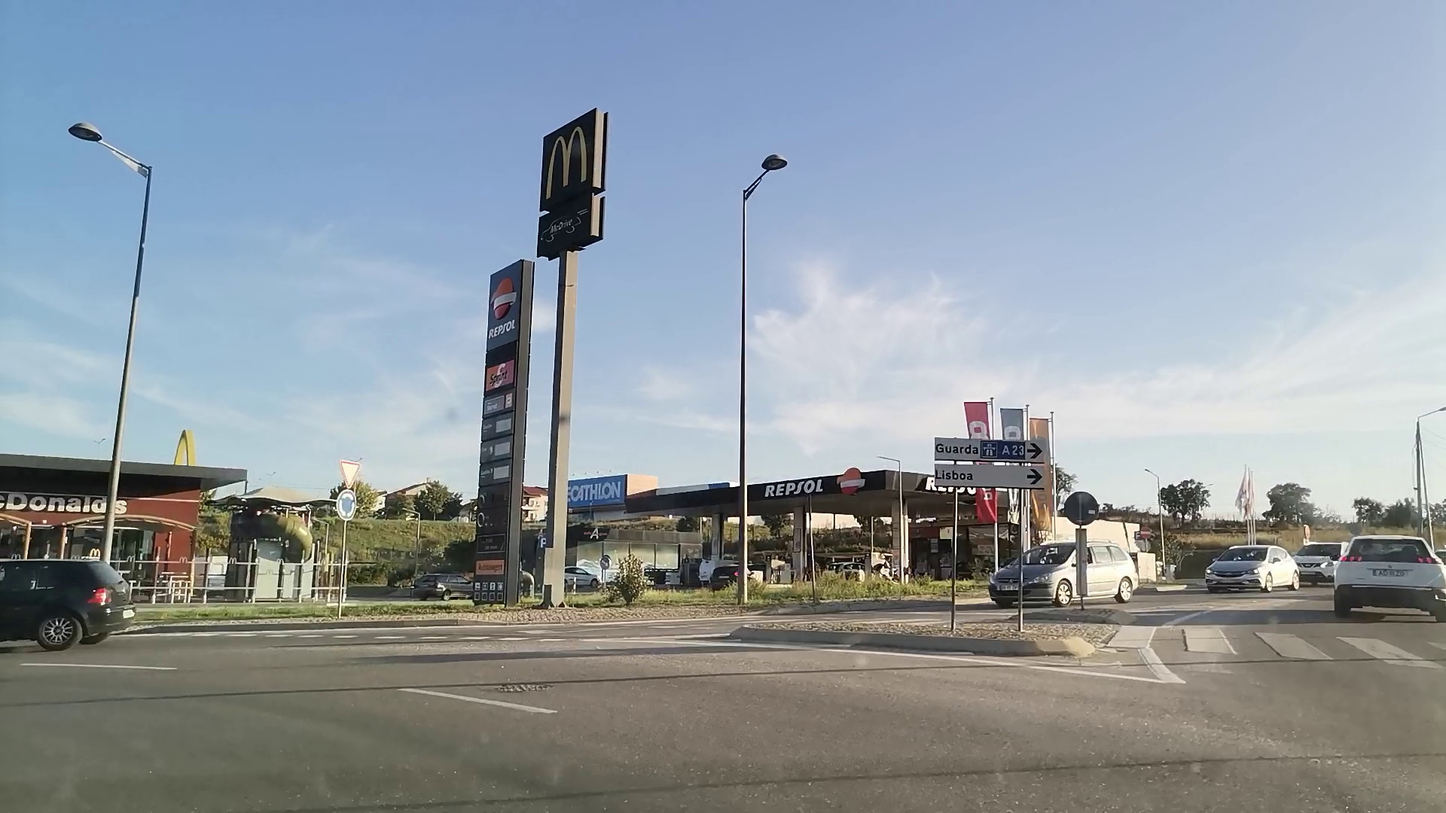Stairs: (1112, 609, 1446, 690)
